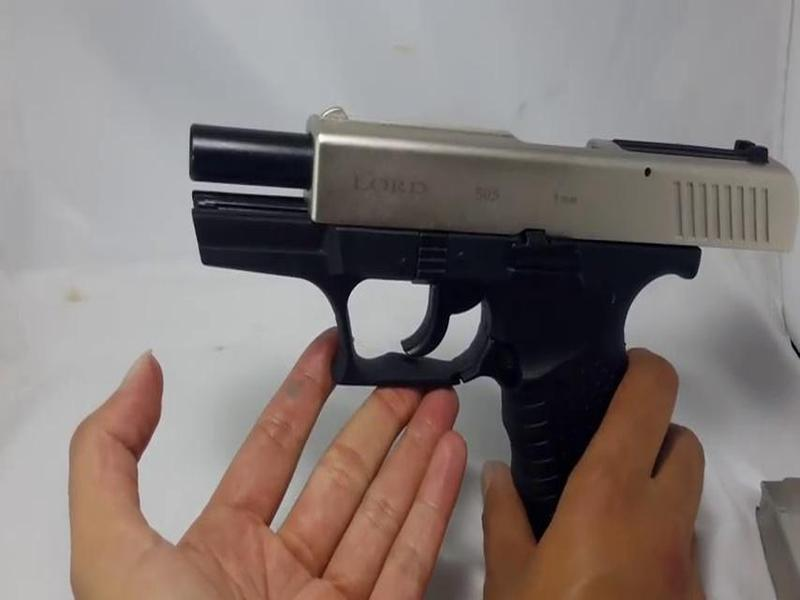Pistola: (160, 123, 768, 524)
